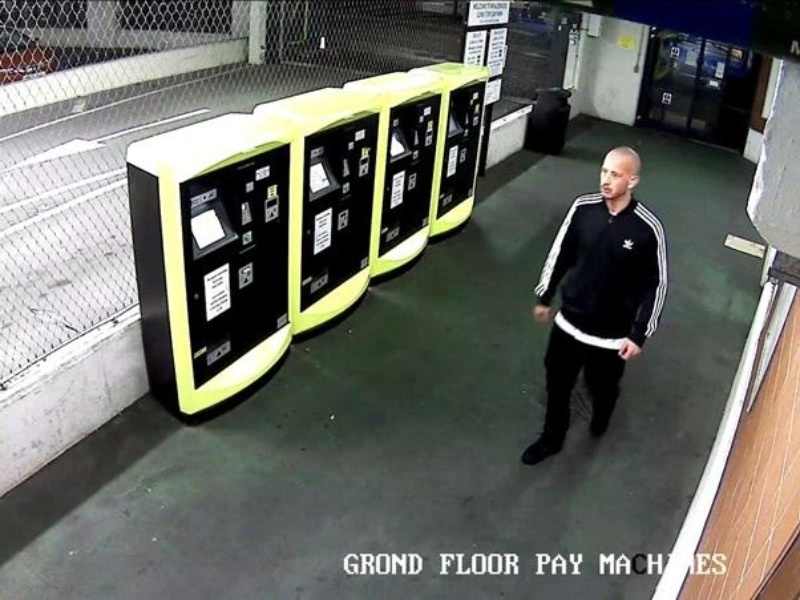person: (519, 145, 668, 474)
